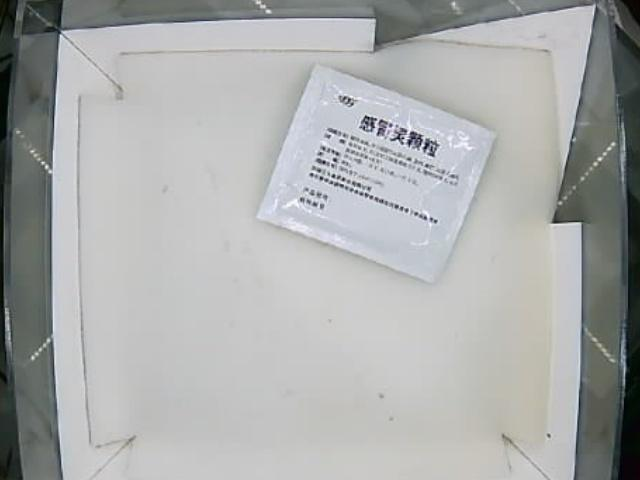Medicine: (259, 62, 500, 280)
